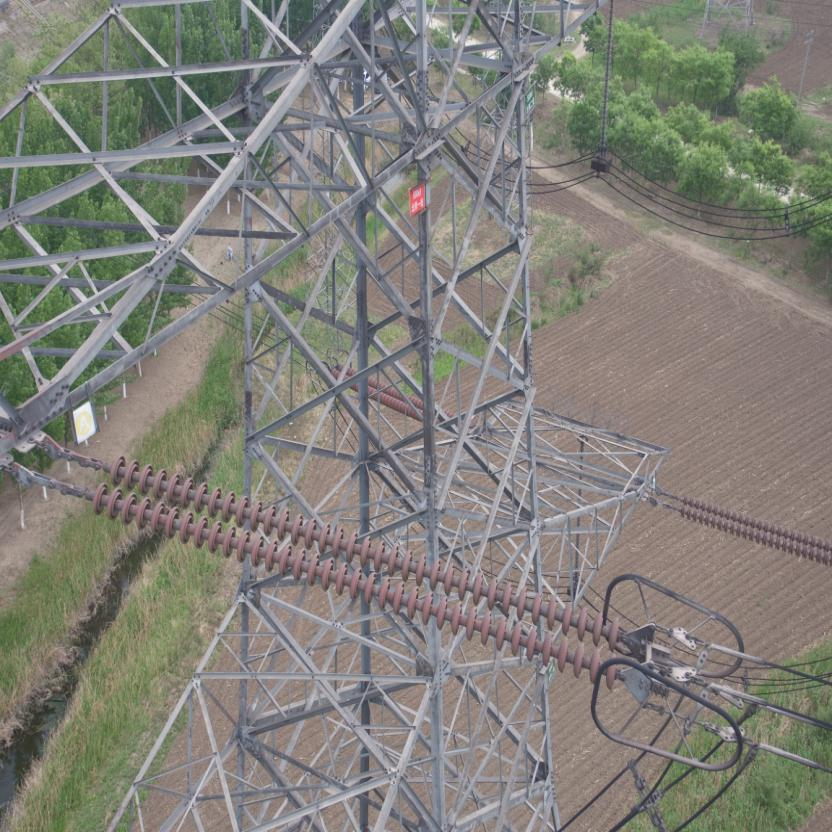insulator: (60, 452, 638, 693), (678, 492, 832, 567)
